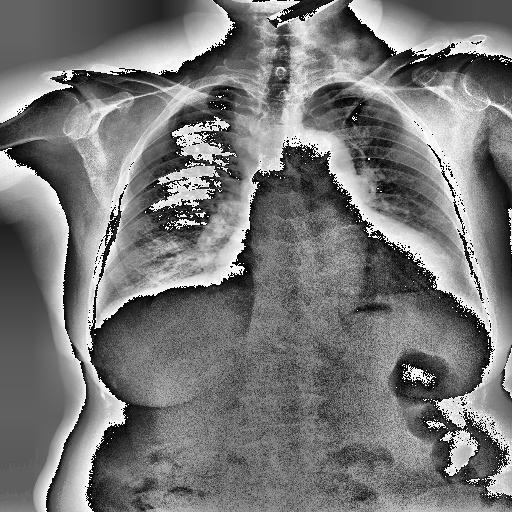0- Aortic enlargement: (284, 130, 358, 190), (290, 130, 358, 190), (281, 132, 358, 181)
11- Pleural thickening: (354, 80, 401, 108)
3- Cardiomegaly: (210, 225, 458, 297), (212, 234, 452, 306), (214, 236, 452, 288)
